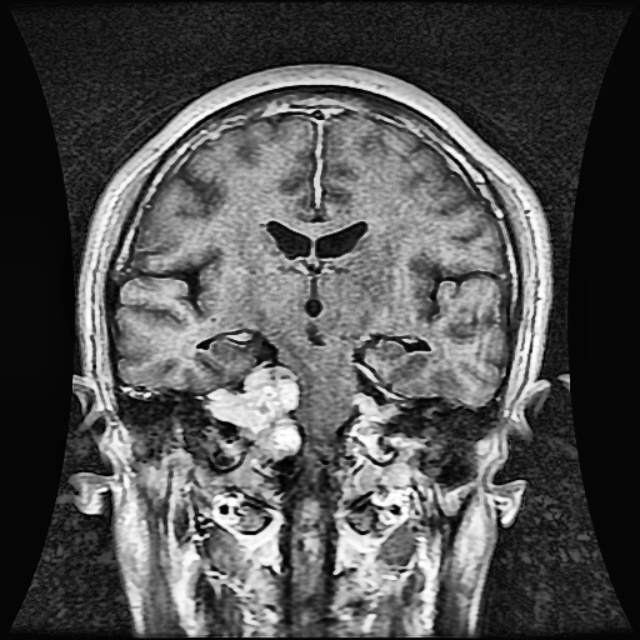Glioma: (207, 364, 303, 463)
